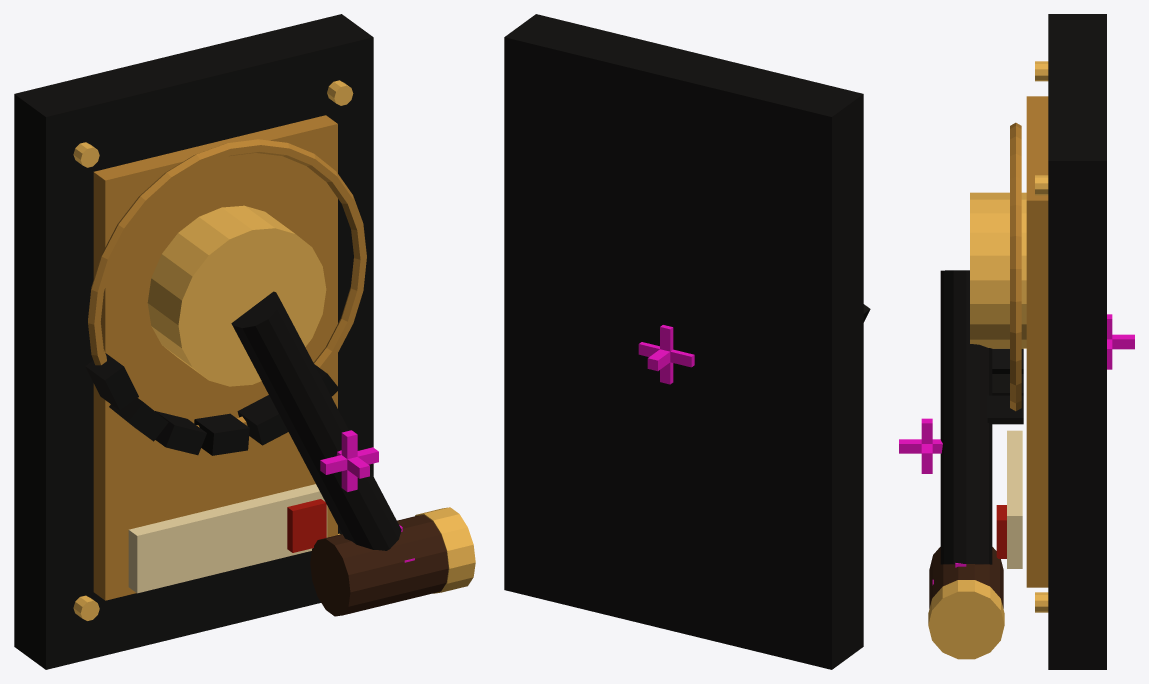
The model's file is PROP_CrankLeverSwitch_Blockout.obj.
3 views of the same model, side by side, from view 1: azimuth 30°, elevation 25°; view 2: azimuth 150°, elevation 25°; view 3: azimuth 270°, elevation 25° (orthographic). The views are drawn at different scales.
Parts seen in each view (by area): view 1: PLATE_BlackenedMount, PLATE_BrassInset, MOVING_PivotHub, MOVING_LeverArm, LABEL_CreamSwitchPlate, MOVING_WoodHandle, RATCHET_BrassArcGuide, MOVING_HandleBrassCap, SOCKET_Interact, LABEL_RedSetMark, RATCHET_Tooth_04, RATCHET_Tooth_01 (+3 smaller); view 2: PLATE_BlackenedMount, SOCKET_WallMount; view 3: PLATE_BlackenedMount, MOVING_LeverArm, PLATE_BrassInset, MOVING_PivotHub, MOVING_HandleBrassCap, RATCHET_BrassArcGuide, LABEL_CreamSwitchPlate, MOVING_WoodHandle, SOCKET_Interact, RATCHET_Tooth_06, SOCKET_WallMount, LABEL_RedSetMark (+2 smaller).
Part boxes in pixels (bbox=[...]): PLATE_BlackenedMount: bbox=[14, 14, 373, 669]; PLATE_BrassInset: bbox=[93, 115, 337, 600]; MOVING_PivotHub: bbox=[147, 205, 326, 386]; MOVING_LeverArm: bbox=[231, 291, 401, 550]; LABEL_CreamSwitchPlate: bbox=[128, 484, 327, 593]; MOVING_WoodHandle: bbox=[310, 515, 448, 616]; RATCHET_BrassArcGuide: bbox=[88, 139, 366, 427]; MOVING_HandleBrassCap: bbox=[415, 507, 475, 593]; SOCKET_Interact: bbox=[320, 430, 378, 491]; LABEL_RedSetMark: bbox=[287, 499, 326, 552]; RATCHET_Tooth_04: bbox=[194, 413, 249, 455]; RATCHET_Tooth_01: bbox=[85, 353, 138, 410]; PLATE_BlackenedMount: bbox=[504, 14, 863, 669]; SOCKET_WallMount: bbox=[638, 325, 694, 384]; PLATE_BlackenedMount: bbox=[1048, 14, 1106, 669]; MOVING_LeverArm: bbox=[940, 270, 992, 564]; PLATE_BrassInset: bbox=[1026, 96, 1048, 587]; MOVING_PivotHub: bbox=[970, 192, 1026, 348]; MOVING_HandleBrassCap: bbox=[928, 580, 1004, 659]; RATCHET_BrassArcGuide: bbox=[1010, 122, 1021, 411]; LABEL_CreamSwitchPlate: bbox=[1007, 430, 1022, 568]; MOVING_WoodHandle: bbox=[929, 547, 1003, 608]; SOCKET_Interact: bbox=[899, 418, 942, 473]; RATCHET_Tooth_06: bbox=[987, 395, 1023, 424]; SOCKET_WallMount: bbox=[1107, 314, 1134, 369]; LABEL_RedSetMark: bbox=[996, 505, 1006, 558].
Size of the model in its own units: 0.345 by 0.5 by 0.2099.
